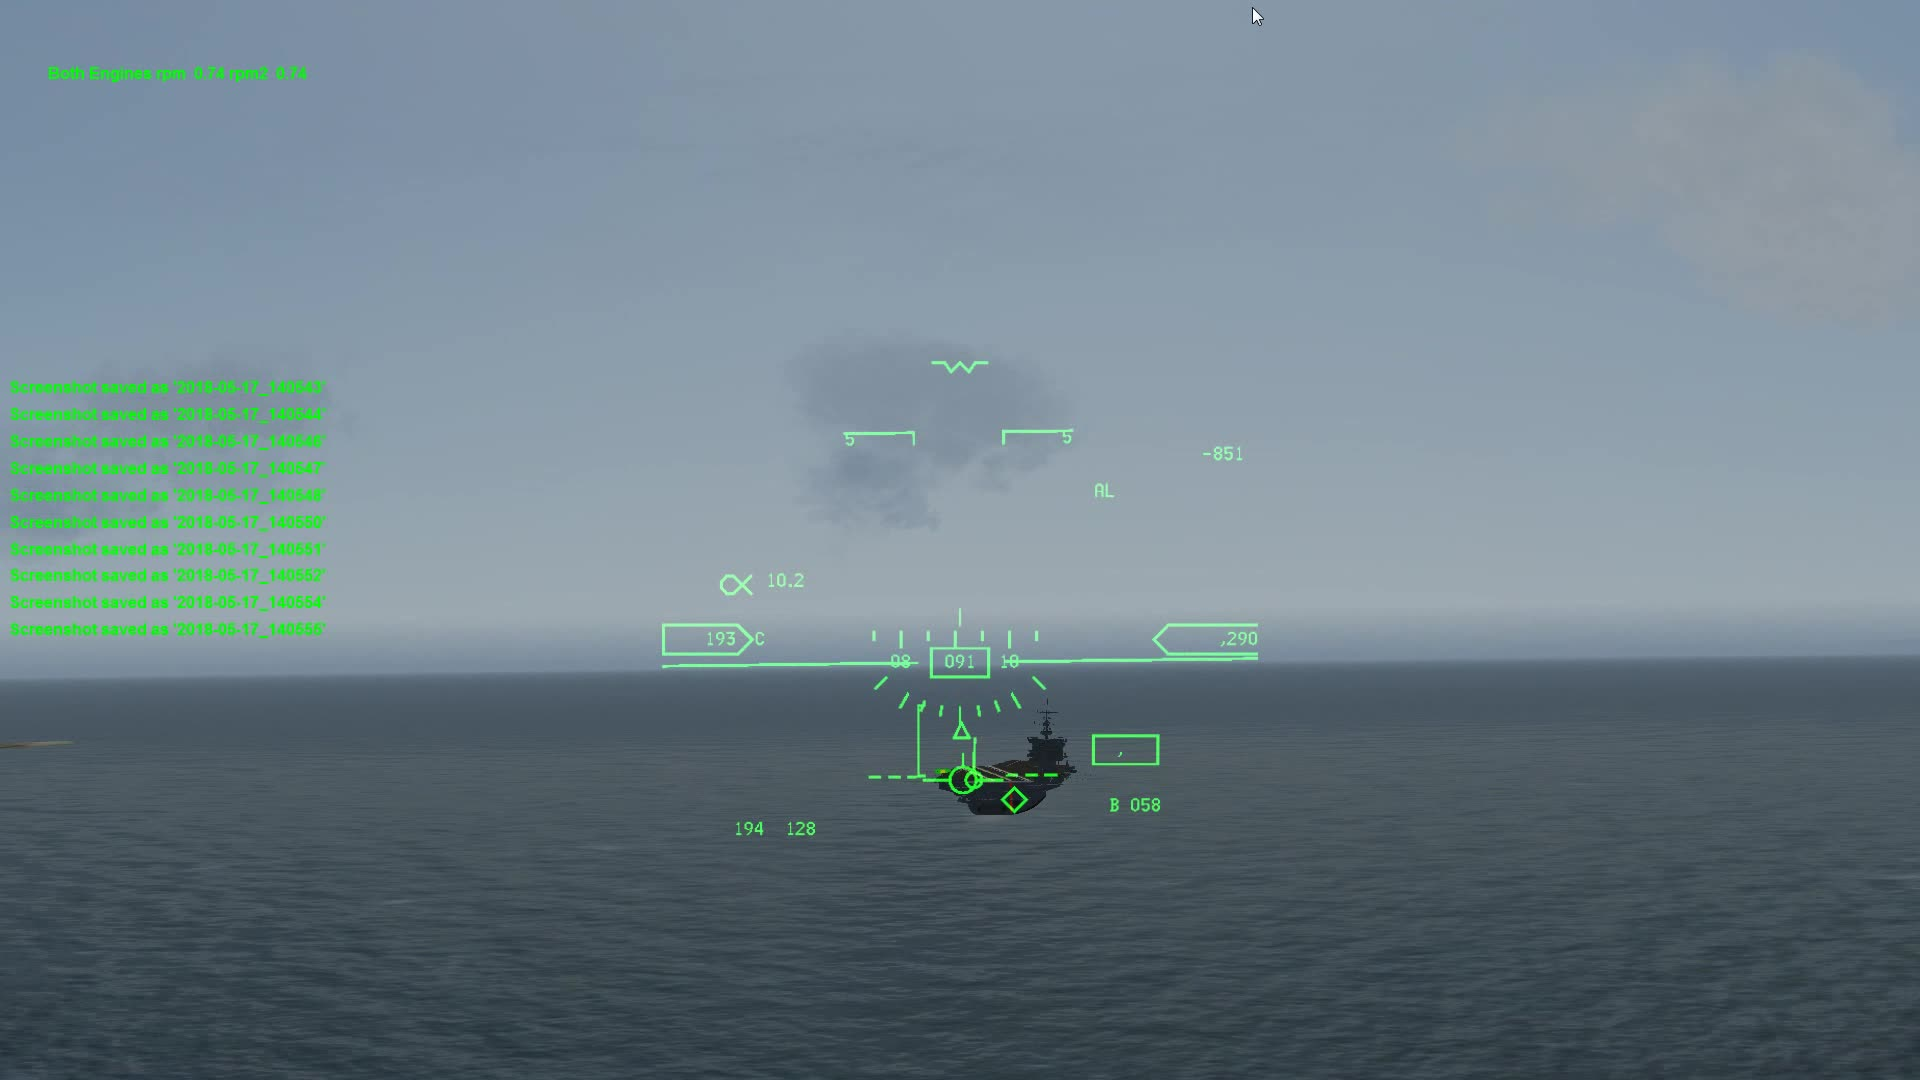speed vector: (924, 760, 1007, 798)
